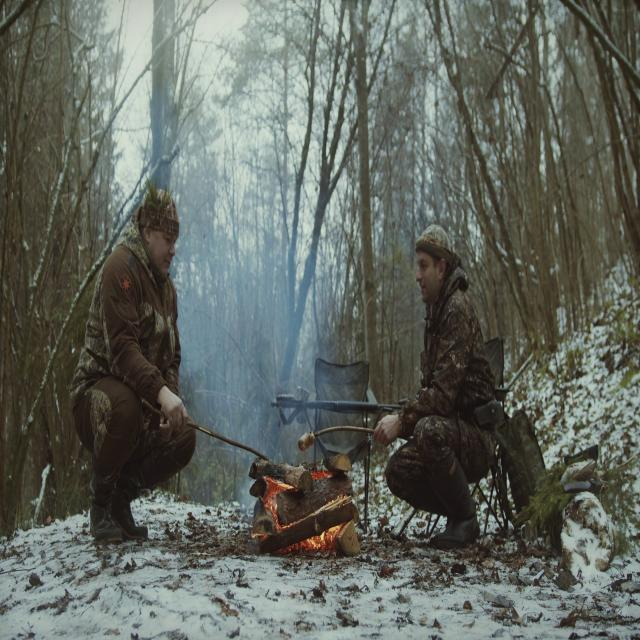Fire: (300, 520, 340, 553), (264, 478, 283, 536)
Smoke: (167, 128, 329, 476)
